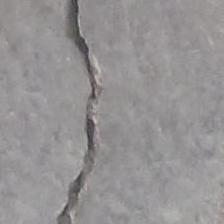Crack: (29, 0, 180, 224)
